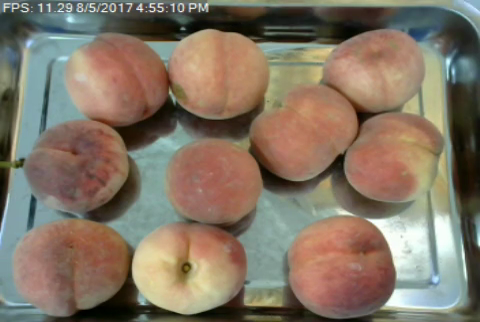Peach: (12, 217, 129, 316), (287, 215, 397, 319), (248, 82, 360, 181), (134, 221, 246, 315), (24, 118, 132, 212), (318, 26, 426, 116), (66, 32, 169, 126), (342, 112, 448, 203), (170, 29, 274, 120), (164, 137, 262, 225)
